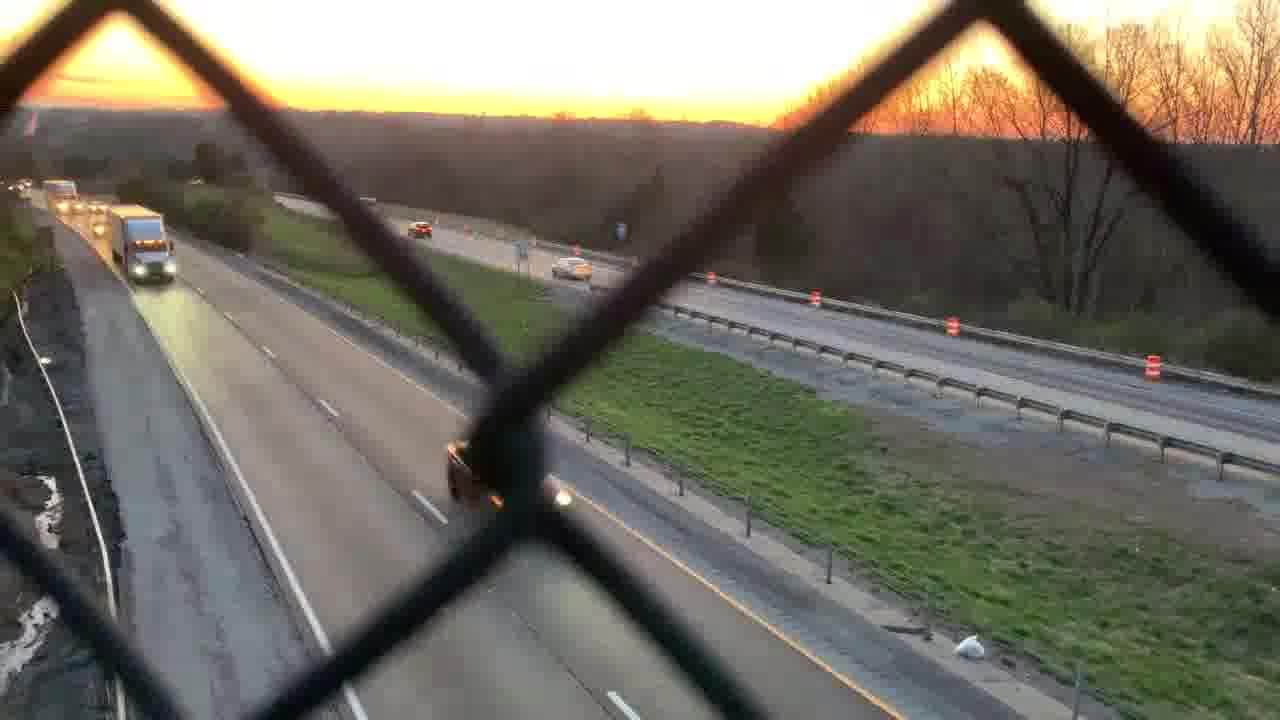heavyTruck: (103, 201, 176, 288), (46, 172, 83, 215)
largeCar: (408, 220, 433, 236)
smallCar: (550, 254, 592, 282)
